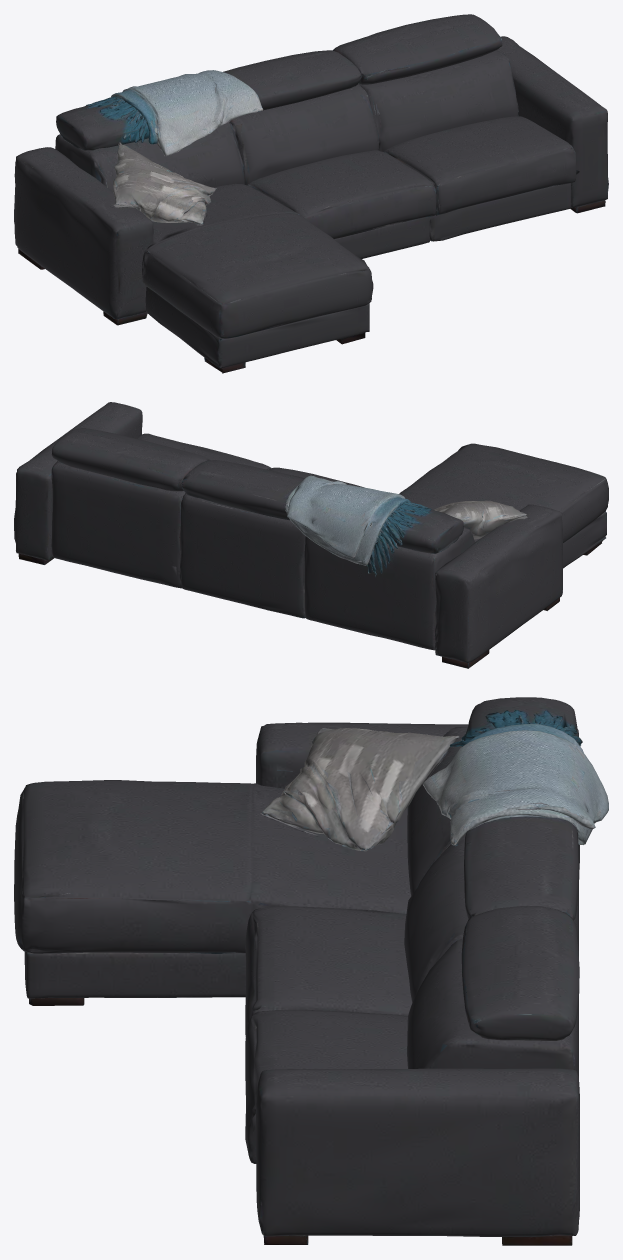
Rendered from couch-compton.min.glb.
The picture shows the model from 3 angles, top to bottom: view 1: azimuth 30°, elevation 25°; view 2: azimuth 150°, elevation 25°; view 3: azimuth 270°, elevation 25°; orthographic projection. The views are drawn at different scales.
Size of the model in its own units: 0.9541 by 0.2671 by 0.6328.
1 material, 1 textured.
